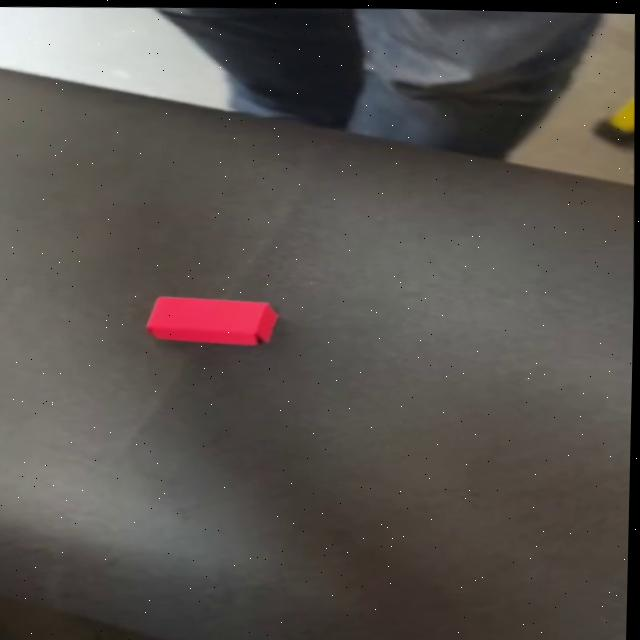red block: (142, 291, 278, 347)
